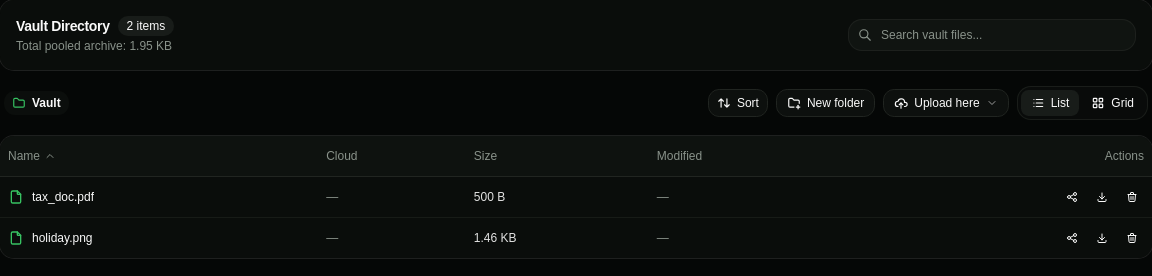
Test: VaultBrowserTable › filters items based on search input
In the field with placeholder "Search vault files...": (992, 35) [848, 19, 1136, 51], type "holiday"
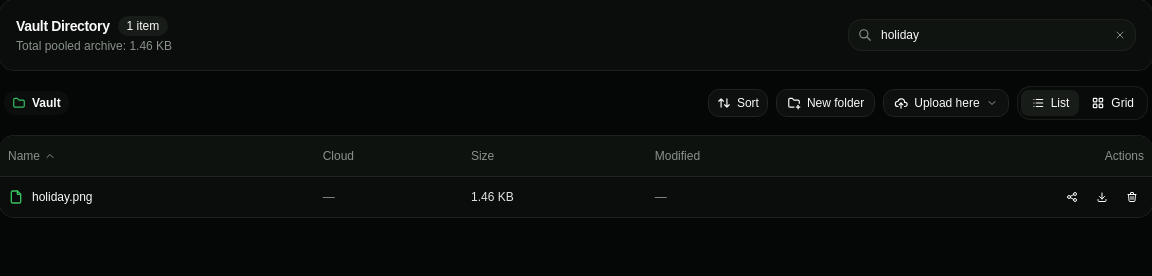
Expected: the text "holiday.png" is shown, [32, 188, 92, 204]
Expected: the button "tax_doc.pdf" is gone
